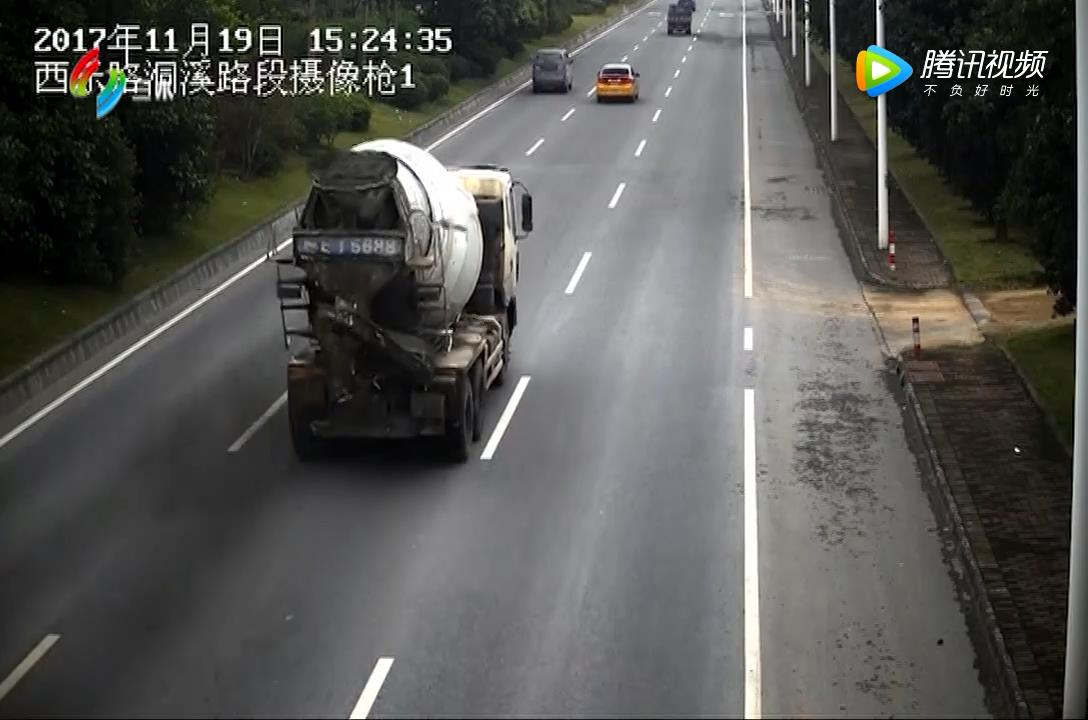smoke: (129, 370, 287, 512)
